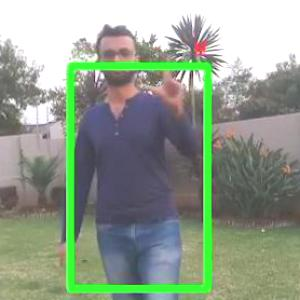land_hand: (142, 53, 188, 107)
